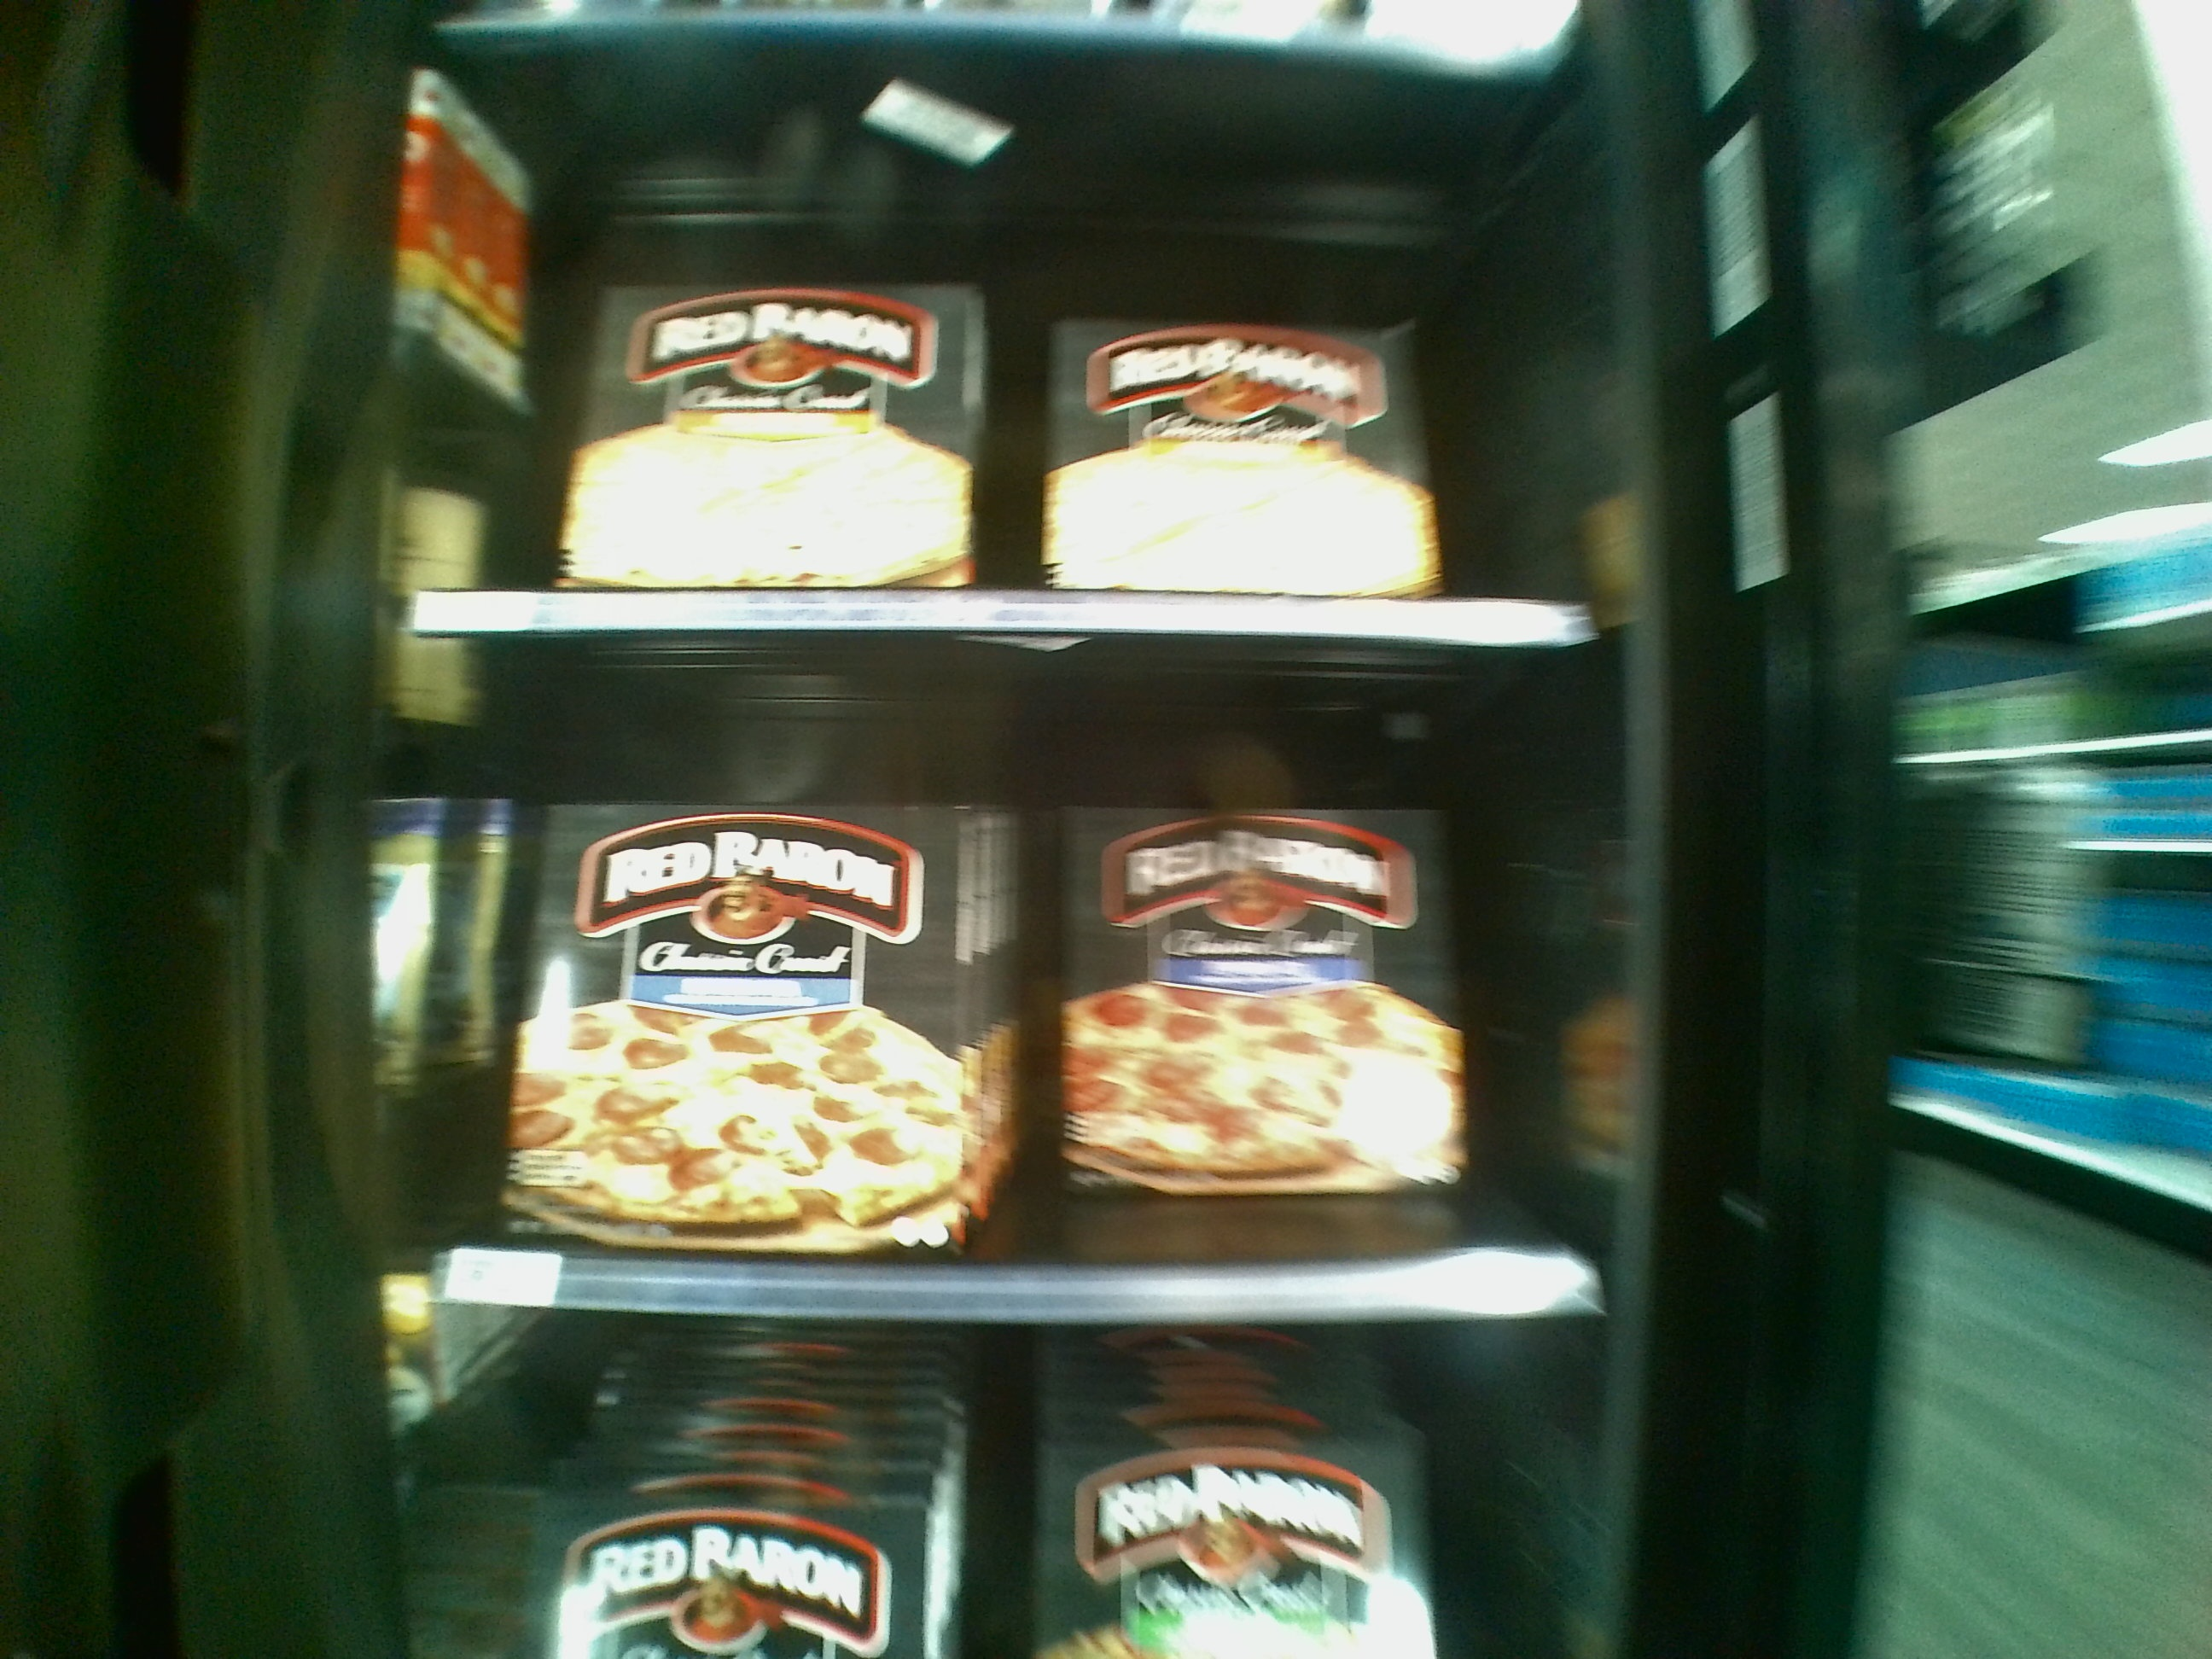shelf: (453, 648, 1615, 1328), (456, 47, 1587, 652)
